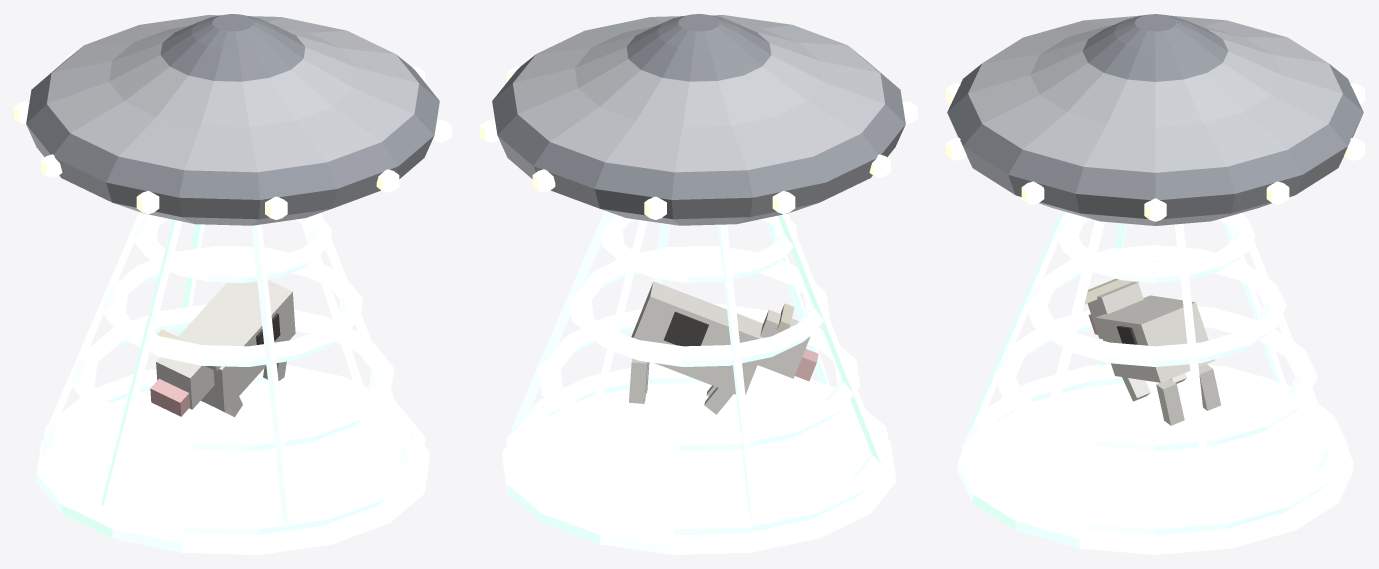
The model's file is item_beam.glb.
The picture shows the model from 3 angles, left to right: view 1: azimuth 30°, elevation 25°; view 2: azimuth 150°, elevation 25°; view 3: azimuth 270°, elevation 25°; orthographic projection.
Parts seen in each view (by area): view 1: item_beam; view 2: item_beam; view 3: item_beam.
Part boxes in pixels (<box>): item_beam: <box>14,14,451,554</box>; item_beam: <box>480,14,917,554</box>; item_beam: <box>946,14,1364,554</box>.
Bounding box in the file's own units: 0.8375 × 0.95 × 0.8041.
